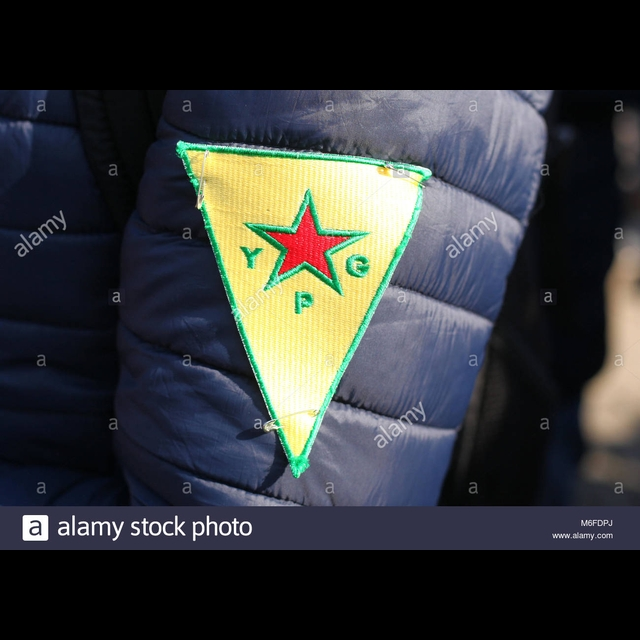YPG: (240, 190, 370, 325)
